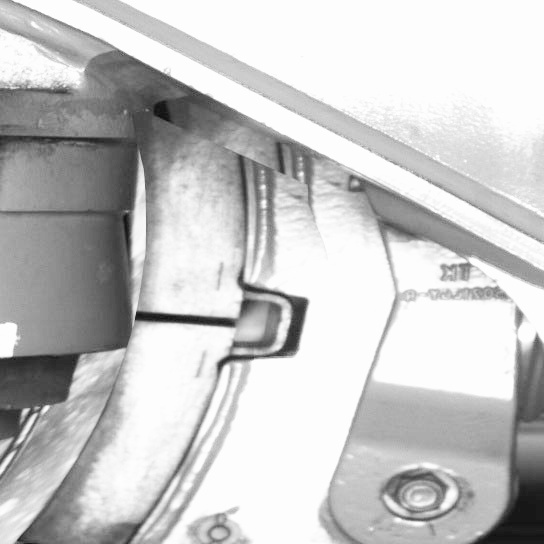ClosedKnifeSwitch: (13, 137, 242, 542)
